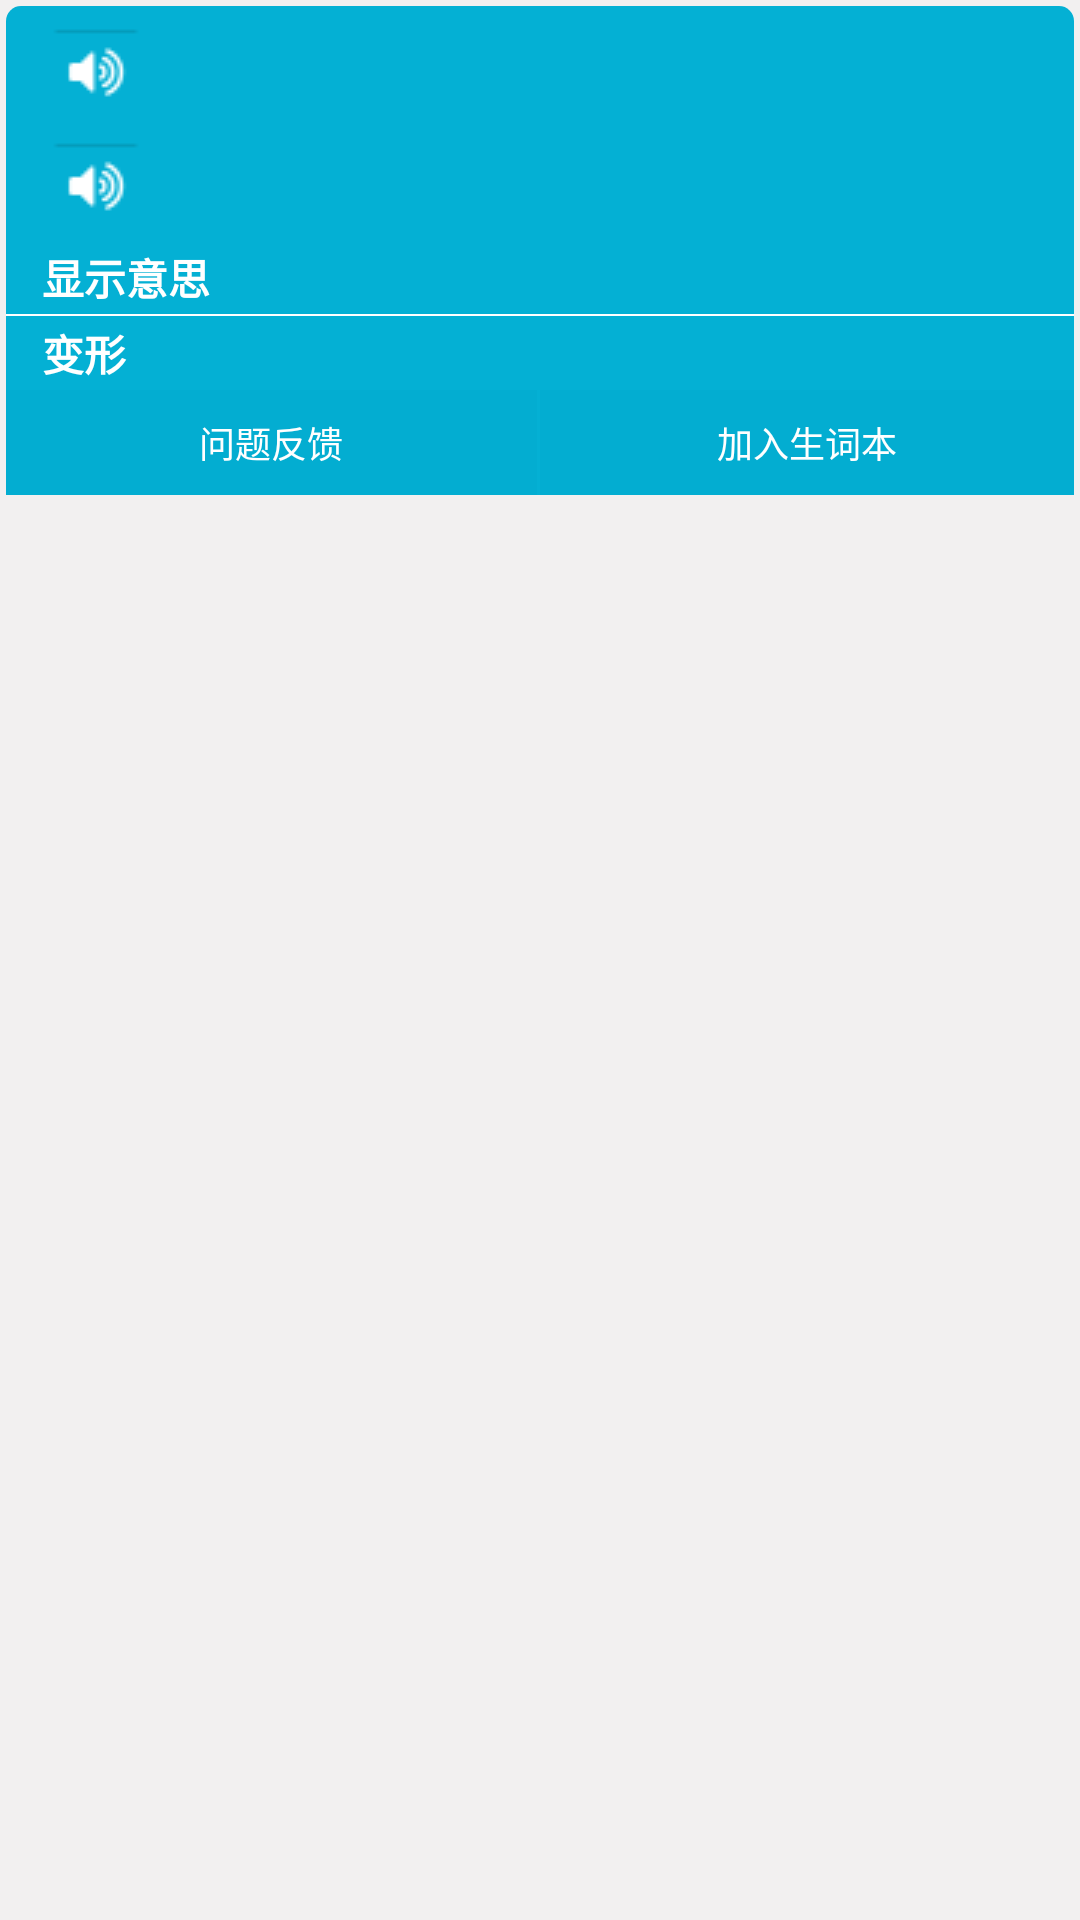

Icon bounding boxes for this 1080px×1920px phone screenshot, format (x1, y1, x2, y2):
voice: (58, 31, 134, 97), (58, 145, 134, 211)
